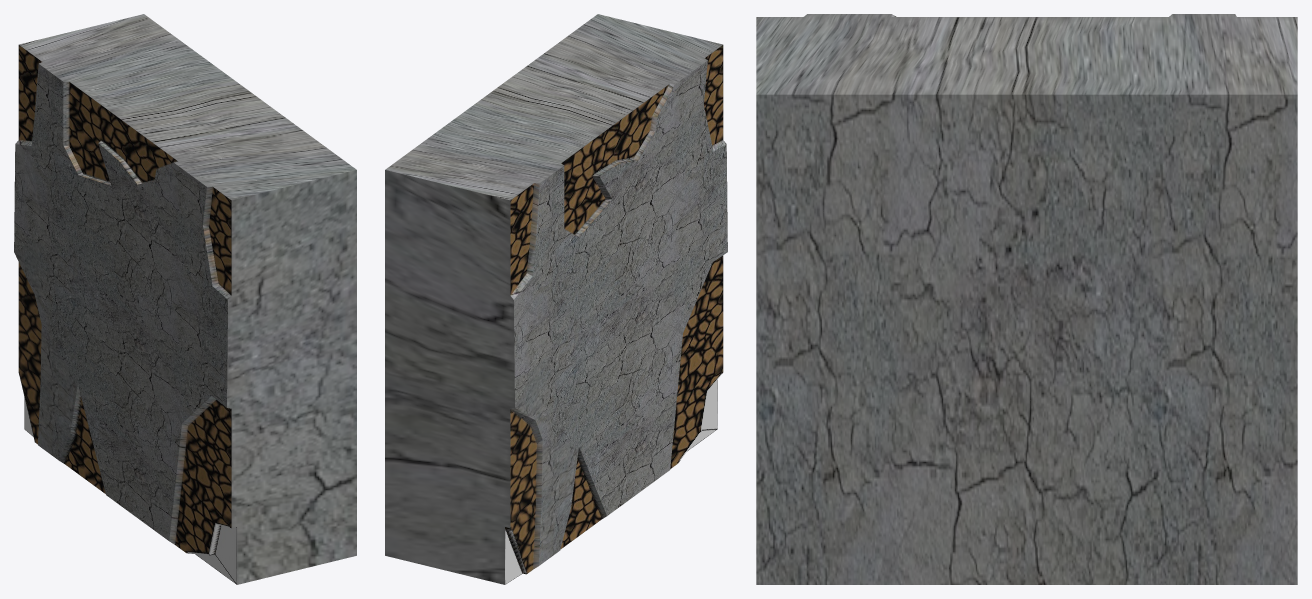
File: EspacioPirateriaParedExteriorNI.gltf
3 renders of one model, left to right at view 1: azimuth 30°, elevation 25°; view 2: azimuth 150°, elevation 25°; view 3: azimuth 270°, elevation 25°, orthographic. The views are drawn at different scales.
Visible parts, largest first — view 1: Cubo.23; view 2: Cubo.23; view 3: Cubo.23.
Boxes of the visible parts, bbox=[...] form: Cubo.23: bbox=[14, 14, 356, 584]; Cubo.23: bbox=[385, 14, 727, 584]; Cubo.23: bbox=[756, 14, 1297, 584].
Size of the model in its own units: 0.705 by 2 by 2.
1 material, 1 textured.
